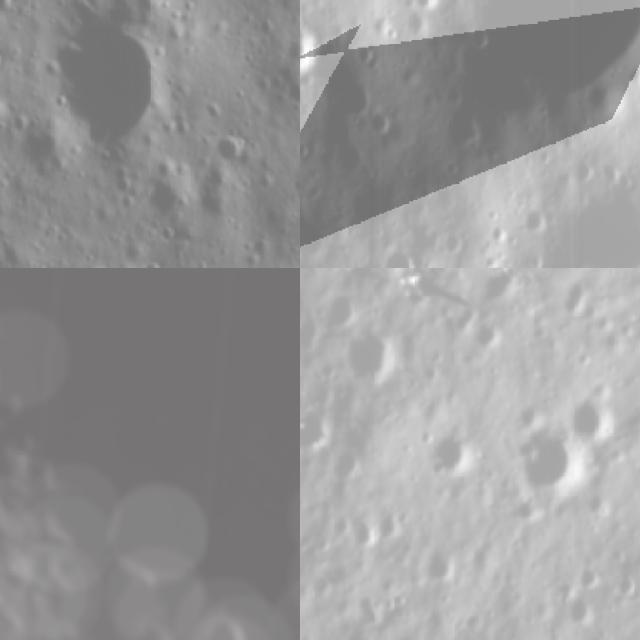crater: (449, 0, 640, 123), (42, 9, 174, 151), (505, 422, 584, 502), (342, 323, 399, 379), (422, 428, 478, 479), (566, 387, 615, 441), (475, 268, 528, 309), (321, 285, 363, 334), (300, 402, 340, 453), (373, 501, 414, 546), (147, 172, 185, 218), (197, 609, 252, 640), (424, 543, 462, 587), (300, 17, 324, 86), (368, 242, 429, 268), (559, 273, 591, 320), (326, 448, 364, 485), (347, 518, 383, 554), (473, 318, 508, 355), (213, 132, 248, 168), (573, 558, 607, 594), (560, 597, 597, 625), (606, 572, 640, 599)
